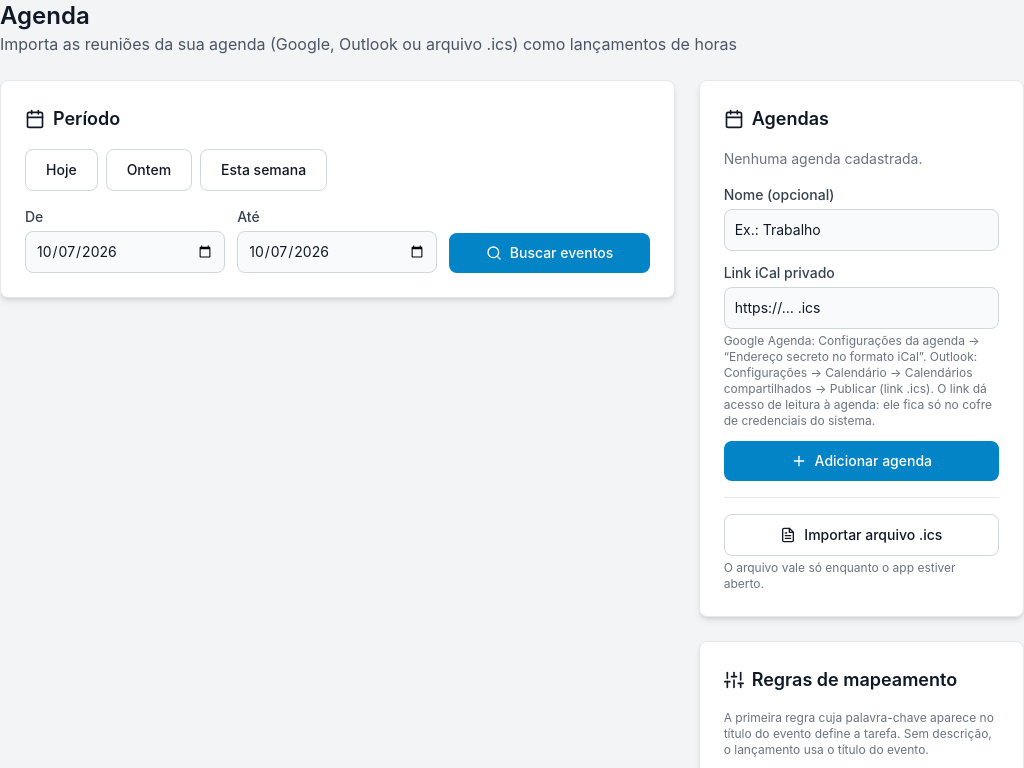
Test: Agenda › permite escolher a tarefa de um evento sem regra
Click the button "Buscar eventos": (550, 253) [449, 233, 650, 273]
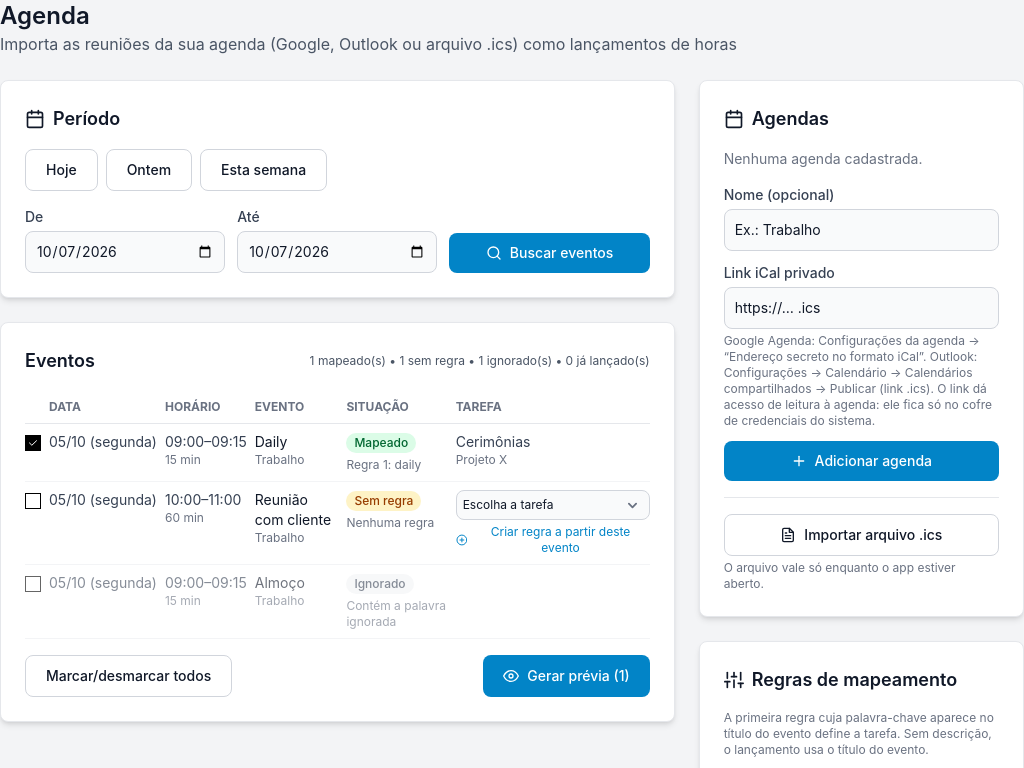
Select "Cerimônias (Projeto X)" in the dropdown named "Tarefa para Reunião com cliente": (553, 505) [456, 490, 650, 520]
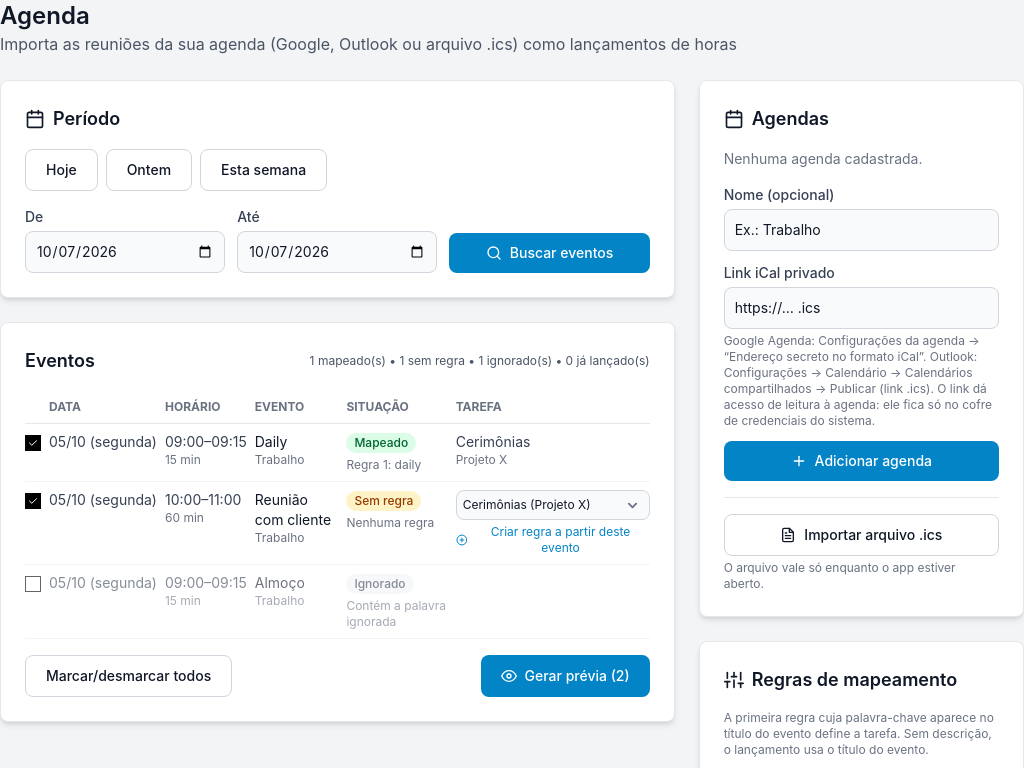
Check: the button "Gerar prévia (2)" is enabled, box [480, 655, 650, 697]
Check: the checkbox named "Incluir Reunião com cliente" is checked, box [25, 493, 41, 509]
